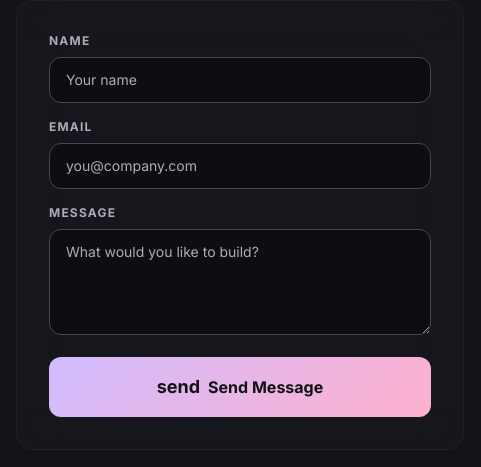
Scenario: Contact › shows success ONLY on a 2xx response
Type "Jane Smith" into the field labelled "Name". click: (240, 80)
box: left=49, top=57, right=431, bottom=103
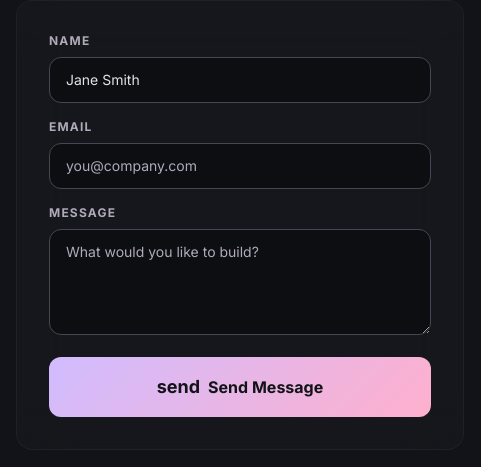
Type "jane@company.com" into the field labelled "Email". click: (240, 166)
box: left=49, top=143, right=431, bottom=189
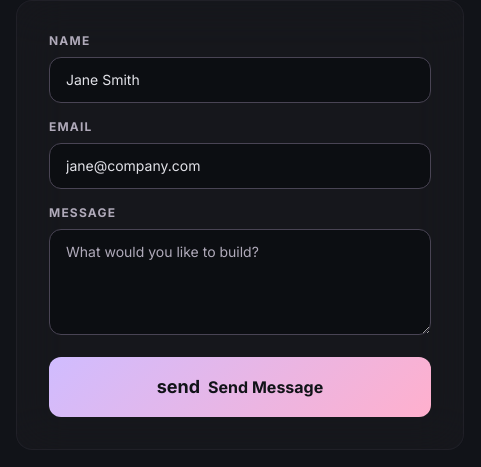
Type "Let's build something." into the text box labelled "Message". click: (240, 282)
box: left=49, top=229, right=431, bottom=335
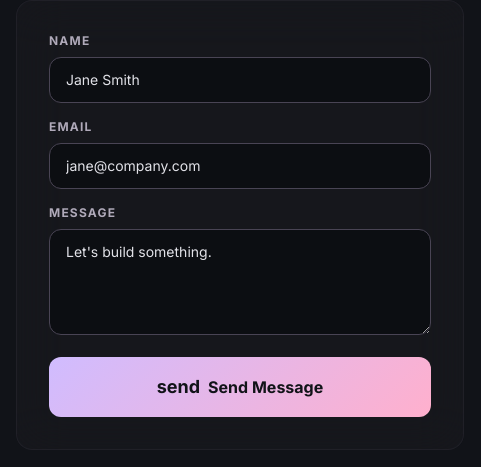
Click the button "send Send Message". click: click(240, 387)
box: left=49, top=357, right=431, bottom=417
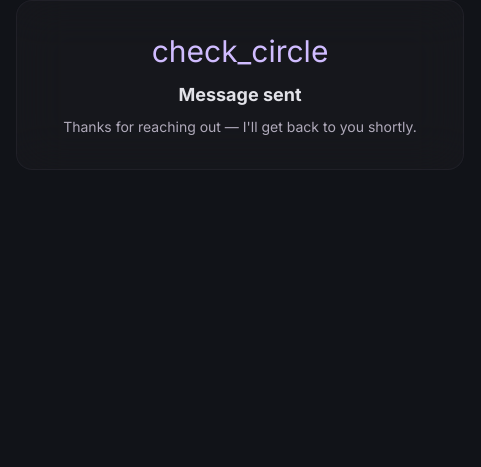
Expected: the heading "Message sent" is shown, left=178, top=84, right=302, bottom=105
